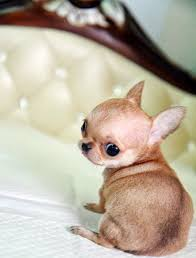chihuahua: (67, 82, 194, 256)
